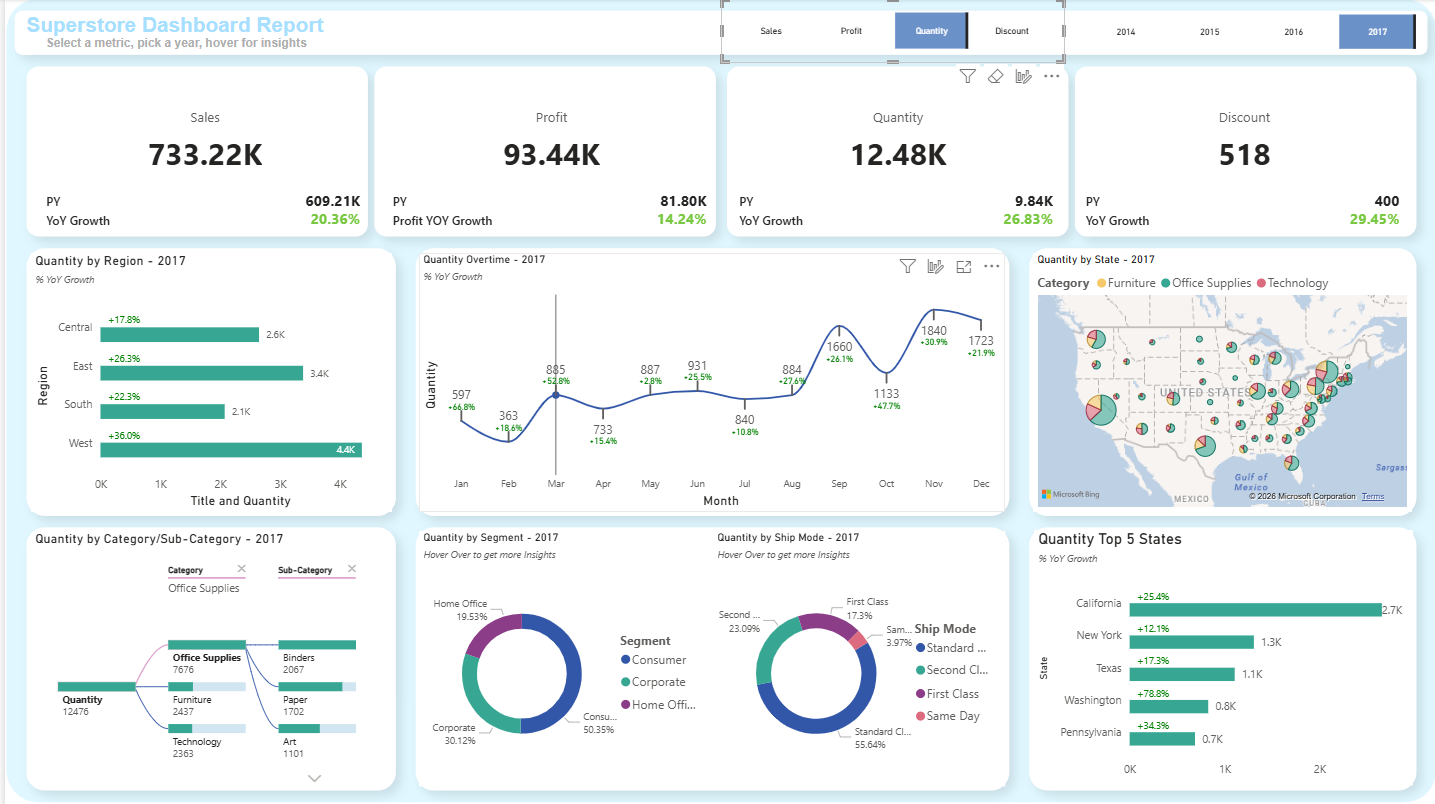

This screenshot's page, from the dashboard's own definition file:
{"tool":"powerbi","page":{"name":"Dashboard Report","canvas":[1600,900],"ordinal":0},"visuals":[{"type":"cardVisual","fields":{"Data":["Measure Table.Total Sales","Measure Table.Total Profit","Measure Table.Total Quantity Sold","Measure Table.Total Discount"]},"box":[28.9,71.1,1541,200],"z":0},{"type":"advancedSlicerVisual","fields":{"Values":["DimDate.Year"]},"box":[1195.2,12,374.7,48.2],"z":1000},{"type":"advancedSlicerVisual","fields":{"Values":["Select Measure.Select Measure"]},"box":[793.8,0,380.6,70.4],"z":2000},{"type":"clusteredBarChart","fields":{"Y":["Measure Table.Title","Measure Table.Total Quantity Sold"],"Category":["DimLocation.Region"]},"box":[28.4,281.8,400,287],"z":3000},{"type":"decompositionTreeVisual","fields":{"Analyze":["Measure Table.Total Quantity Sold"],"ExplainBy":["DimProducts.Category","DimProducts.Sub-Category"]},"box":[28.9,589.2,400,298.8],"z":4000},{"type":"lineChart","fields":{"Y":["Measure Table.Total Quantity Sold"],"Category":["DimDate.Month"]},"box":[459.2,281.8,648.9,287.2],"z":5000},{"type":"donutChart","fields":{"Y":["Measure Table.Total Quantity Sold"],"Category":["DimCustomers.Segment"]},"box":[459.2,589.3,322,283.1],"z":6000},{"type":"donutChart","fields":{"Y":["Measure Table.Total Quantity Sold"],"Category":["DimOrders.Ship Mode"]},"box":[784.3,589.3,323.8,283.1],"z":7000},{"type":"map","fields":{"Category":["DimLocation.State"],"Series":["DimProducts.Category"],"Size":["Measure Table.Total Quantity Sold"]},"box":[1139.8,281.9,419.3,286.7],"z":8000},{"type":"clusteredBarChart","fields":{"Category":["DimLocation.State"],"Y":["Measure Table.Title","Select Measure.SelectedMeasureValue"]},"box":[1141,589,420,283],"z":9000}]}

Visuals, with their boxes in screenshot pixels (x1, y1, x2, y2), scaled from the page's 1600x900 canvas onto the 1435x804 screenshot:
cardVisual - Measure Table.Total Sales x Measure Table.Total Profit: (26, 64, 1408, 242)
advancedSlicerVisual - DimDate.Year: (1072, 11, 1408, 54)
advancedSlicerVisual - Select Measure.Select Measure: (712, 0, 1053, 63)
clusteredBarChart - Measure Table.Title x Measure Table.Total Quantity Sold: (25, 252, 384, 508)
decompositionTreeVisual - Measure Table.Total Quantity Sold x DimProducts.Category: (26, 526, 385, 793)
lineChart - Measure Table.Total Quantity Sold x DimDate.Month: (412, 252, 994, 508)
donutChart - Measure Table.Total Quantity Sold x DimCustomers.Segment: (412, 526, 701, 779)
donutChart - Measure Table.Total Quantity Sold x DimOrders.Ship Mode: (703, 526, 994, 779)
map - DimLocation.State x DimProducts.Category: (1022, 252, 1398, 508)
clusteredBarChart - DimLocation.State x Measure Table.Title: (1023, 526, 1400, 779)
